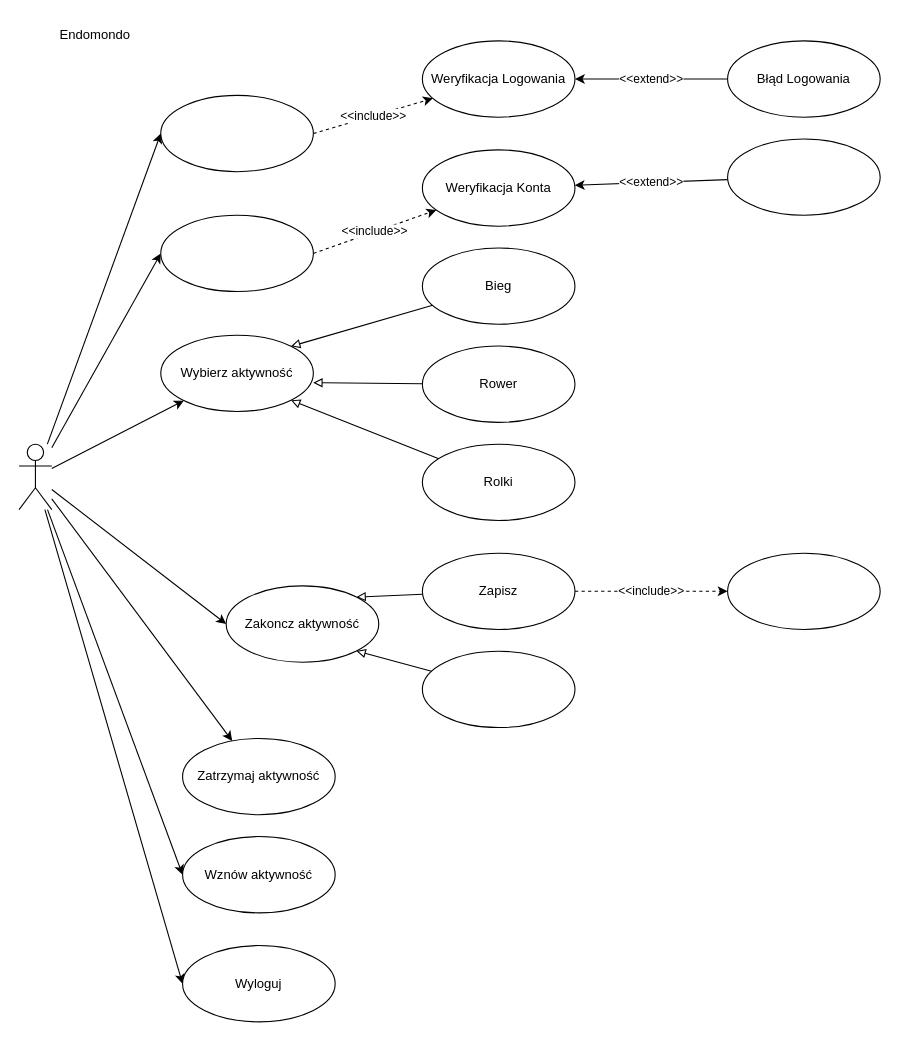
Some shapes in this 899 by 1041 pixel diagram are drawn without their labels. Each missing label, with the centre of its shape:
"Błąd Tworzenia Konta" goes at [803,176].
"Klient" goes at [35,476].
"Stwórz konto" goes at [236,253].
"Usun" goes at [498,689].
"Wyswietl podsumowanie" goes at [803,590].
"Zaloguj" goes at [236,133].
